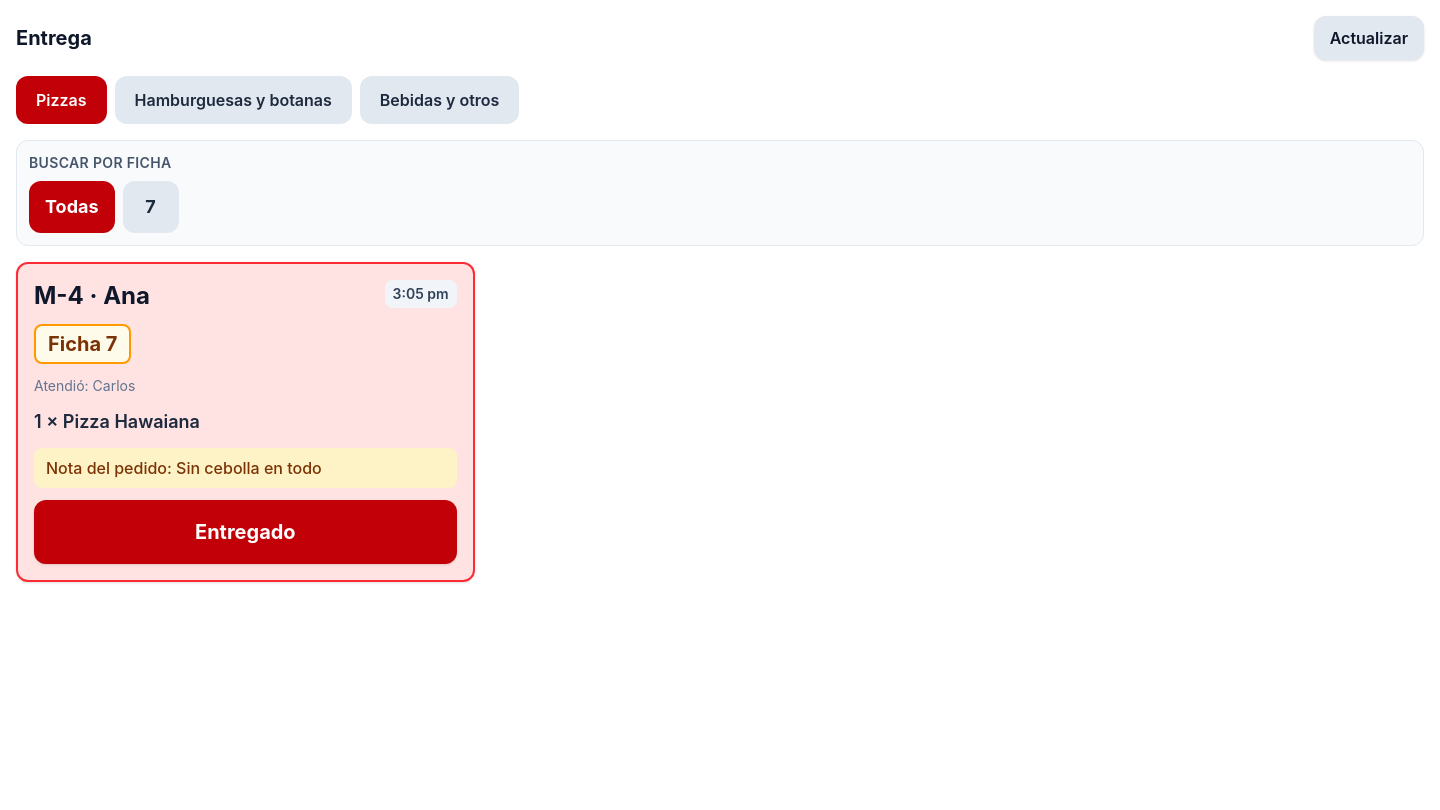
Scenario: DeliveryBoard › delivers only the section lines and keeps the rest in their section
Click the button with aria-label "Marcar pedido entregado" at (245, 532), box [34,500,457,564]
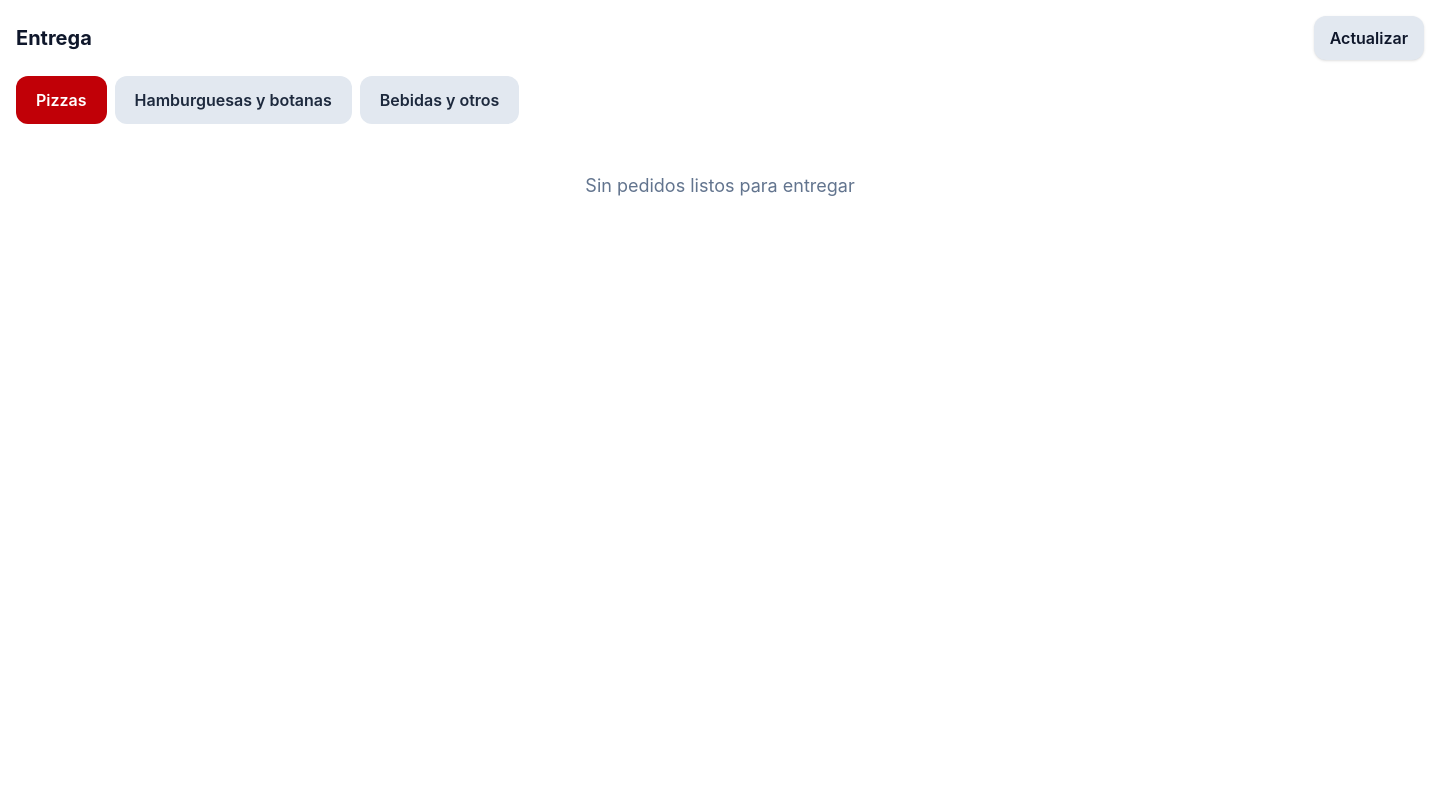
Expected: the heading "M-4 · Ana" is gone
Click the button "Hamburguesas y botanas" at (233, 100), box [115,76,352,124]
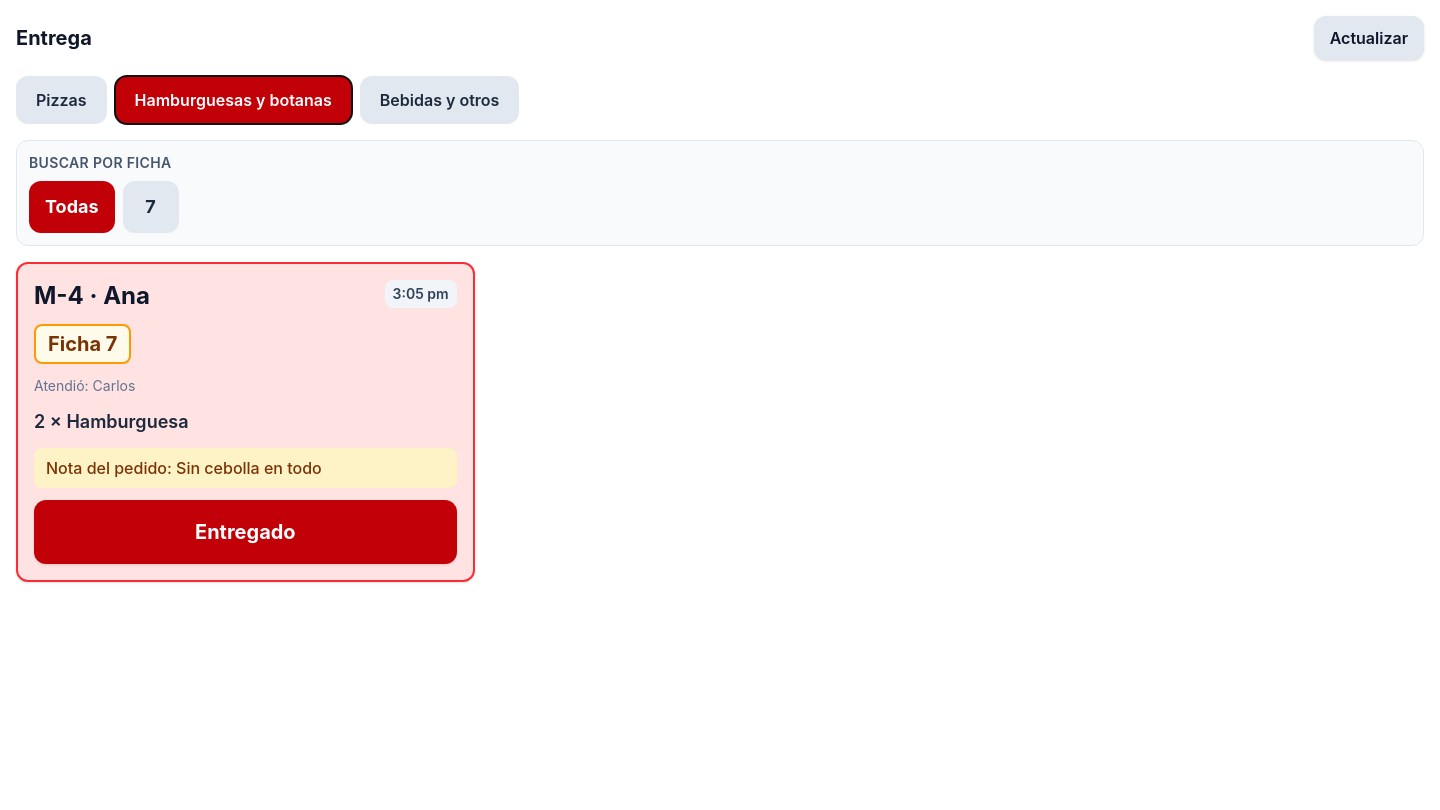
Expected: the text "2 × Hamburguesa" is shown, [34,411,188,432]
